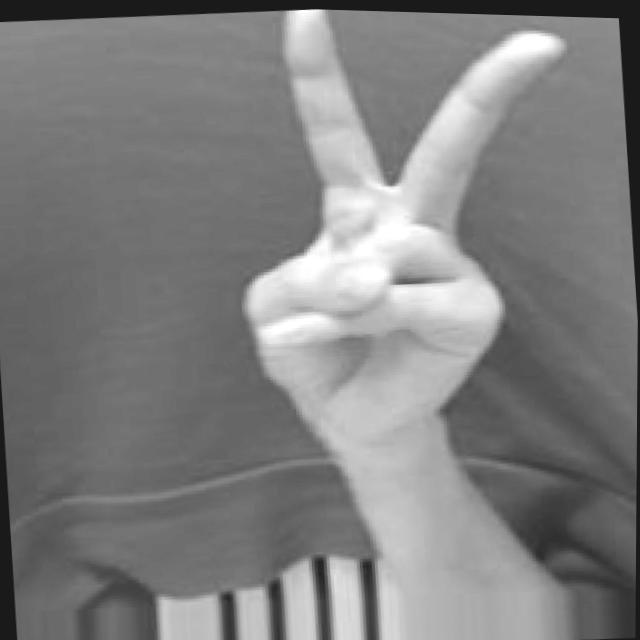V: (219, 7, 599, 460)
